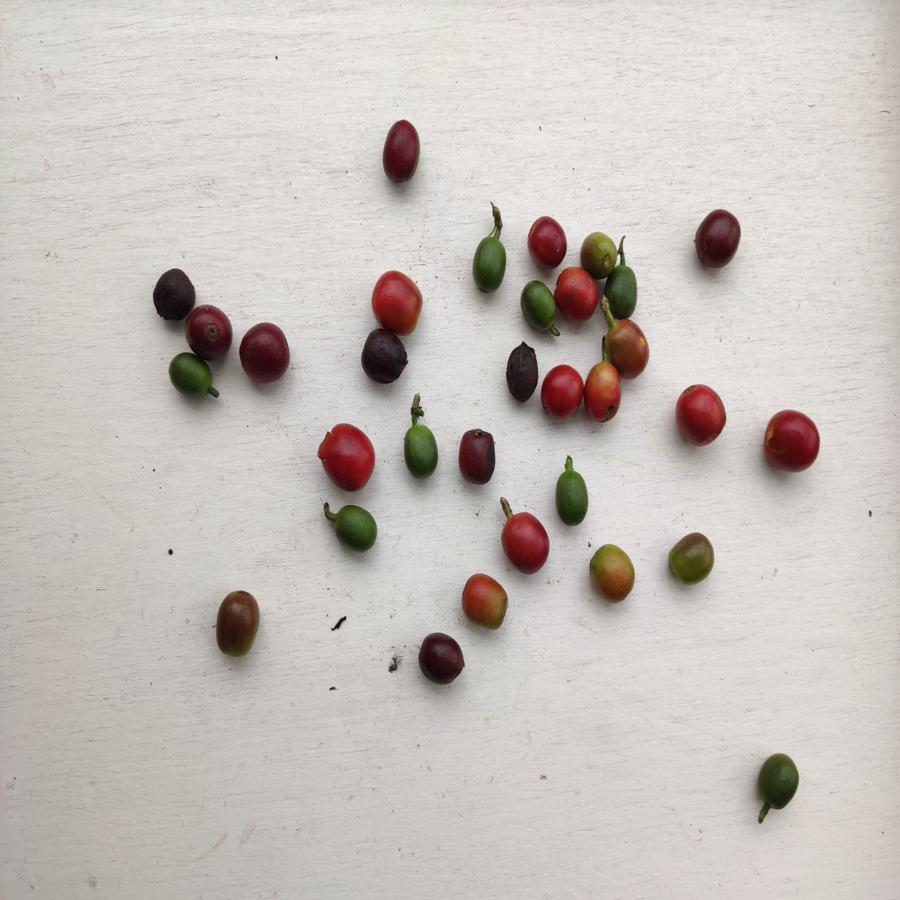Inmaduro: (467, 234, 514, 296), (758, 752, 801, 815), (330, 501, 380, 551), (514, 281, 557, 337), (168, 354, 216, 401), (403, 421, 441, 480), (553, 467, 590, 525), (604, 264, 640, 318)
Maduro: (316, 423, 376, 494), (761, 410, 825, 474), (672, 384, 730, 448), (496, 511, 551, 578), (371, 269, 423, 329), (542, 360, 585, 426), (583, 358, 624, 427), (552, 267, 599, 324)
Pinton: (211, 588, 262, 659), (588, 545, 637, 604), (460, 572, 509, 629), (604, 319, 649, 379), (667, 532, 713, 585), (576, 231, 621, 273)
Sobremaduro: (235, 321, 292, 386), (417, 632, 473, 686), (692, 209, 742, 269), (454, 426, 501, 488), (380, 119, 424, 183), (358, 329, 410, 382), (183, 304, 232, 359), (150, 269, 199, 318), (526, 215, 571, 267), (504, 340, 540, 403)
